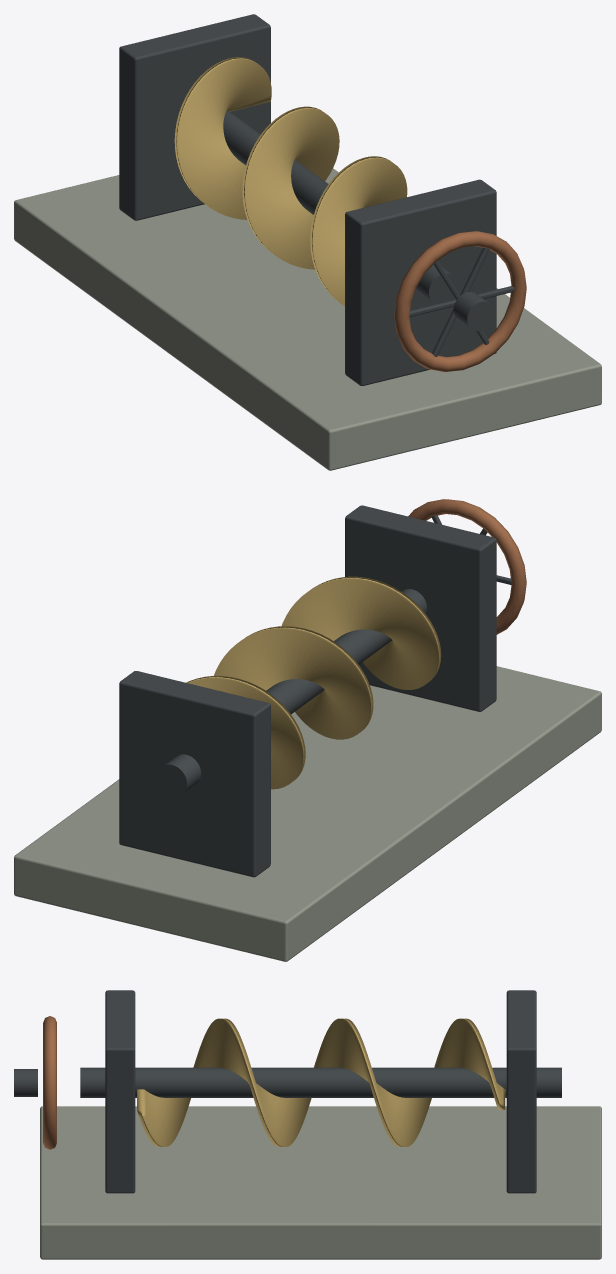
Rendered from undercity-sewers-and-thieves-den-archimedean-screw-pum-a5ba8ceb__27194.glb.
The picture shows the model from 3 angles, top to bottom: view 1: azimuth 30°, elevation 25°; view 2: azimuth 150°, elevation 25°; view 3: azimuth 270°, elevation 25°; orthographic projection. The views are drawn at different scales.
Parts seen in each view (by area): view 1: archimedean-screw-pump; view 2: archimedean-screw-pump; view 3: archimedean-screw-pump.
Boxes of the visible parts, x1,y1,x2,y2 form: archimedean-screw-pump: [14, 14, 601, 470]; archimedean-screw-pump: [14, 499, 601, 961]; archimedean-screw-pump: [14, 990, 601, 1259].
Bounding box in the file's own units: 1.4 × 0.9999 × 2.93.
